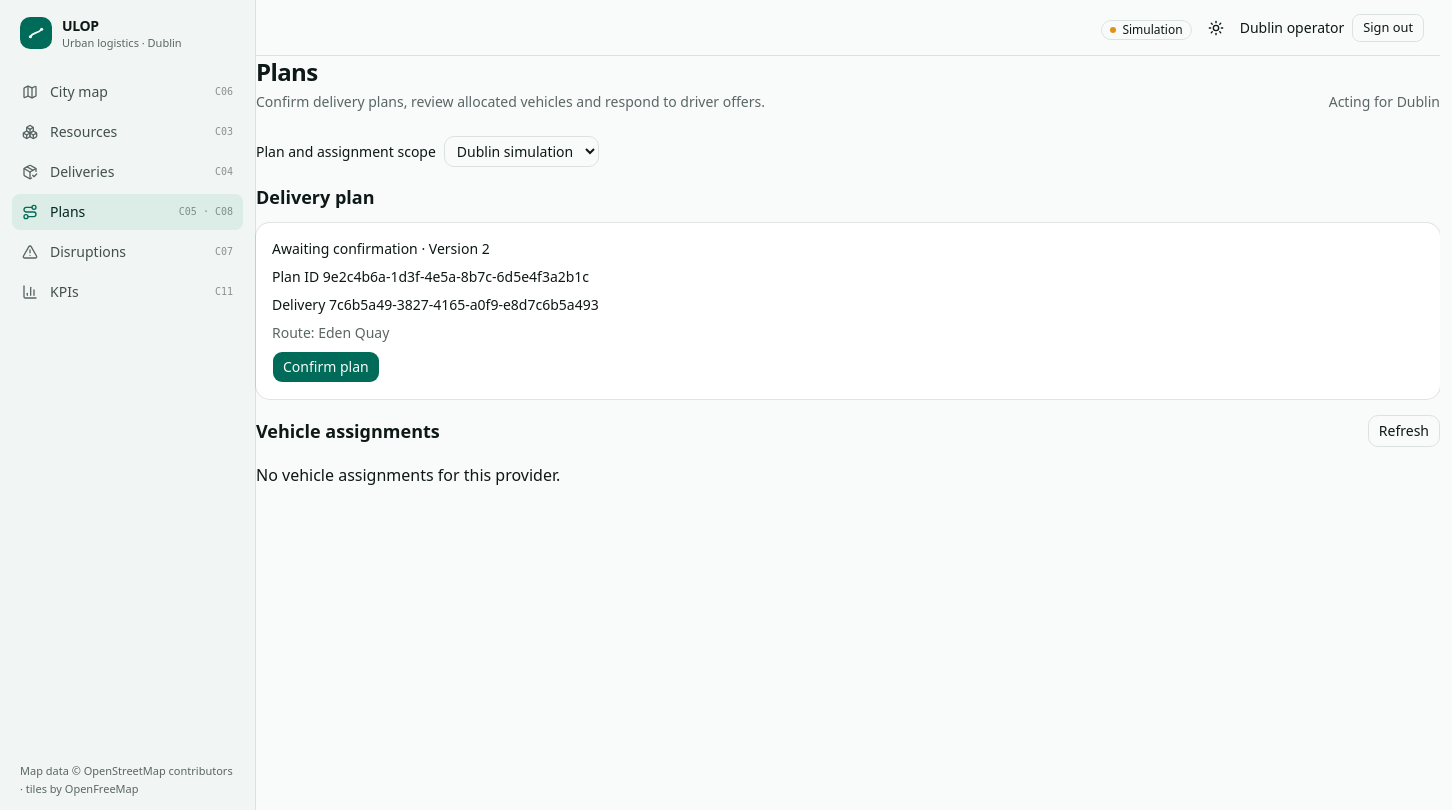
Test case: reloads the saved version after a conflict before allowing any further action
The width and height of the screenshot is (1452, 810).
Click the button "Confirm plan". click: (326, 367)
box: [272,351,380,383]
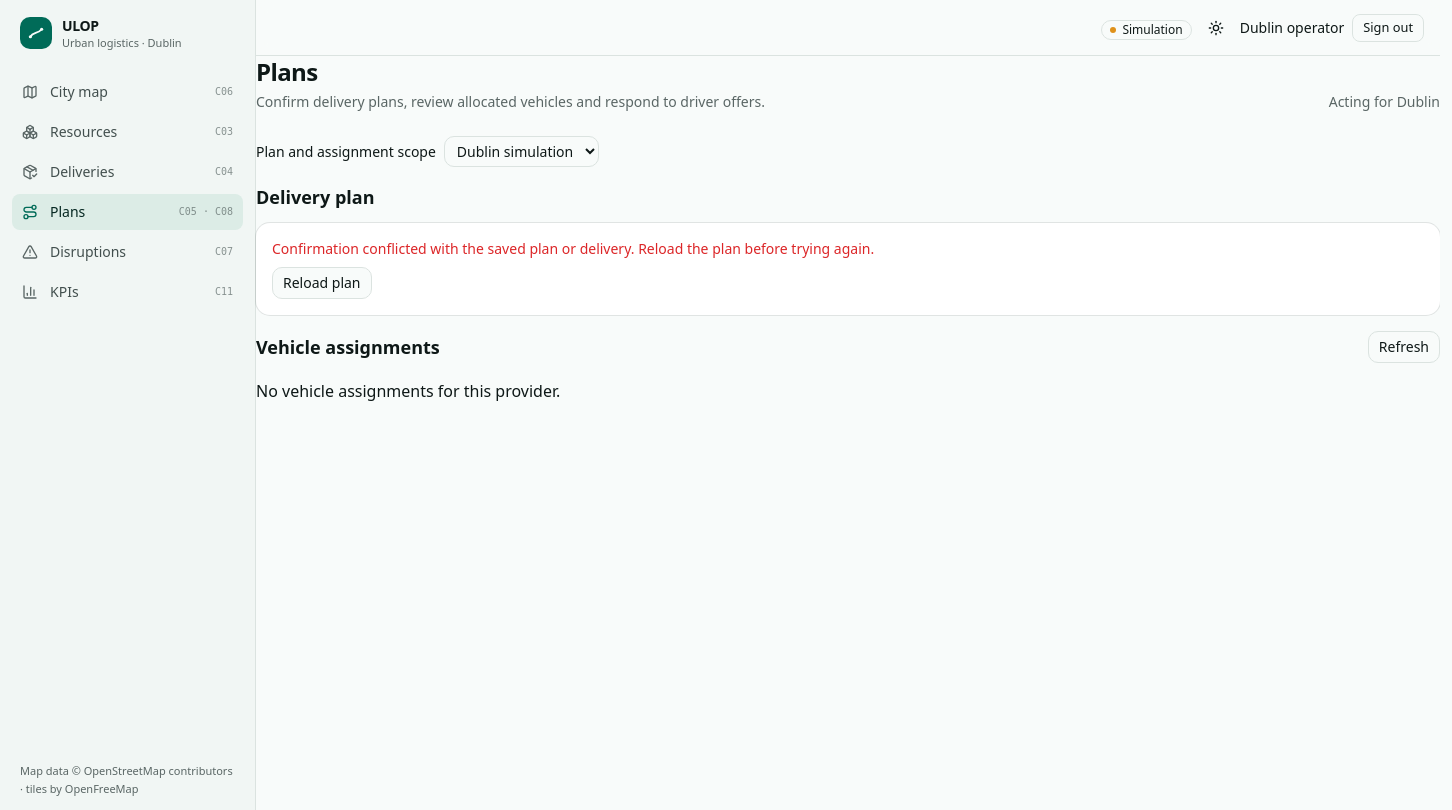
expect the message shows "conflict": met, box [272,239,874,258]
expect the button "Confirm plan" is gone: met
Click the button "Reload plan". click: (322, 283)
box: [272,267,372,299]
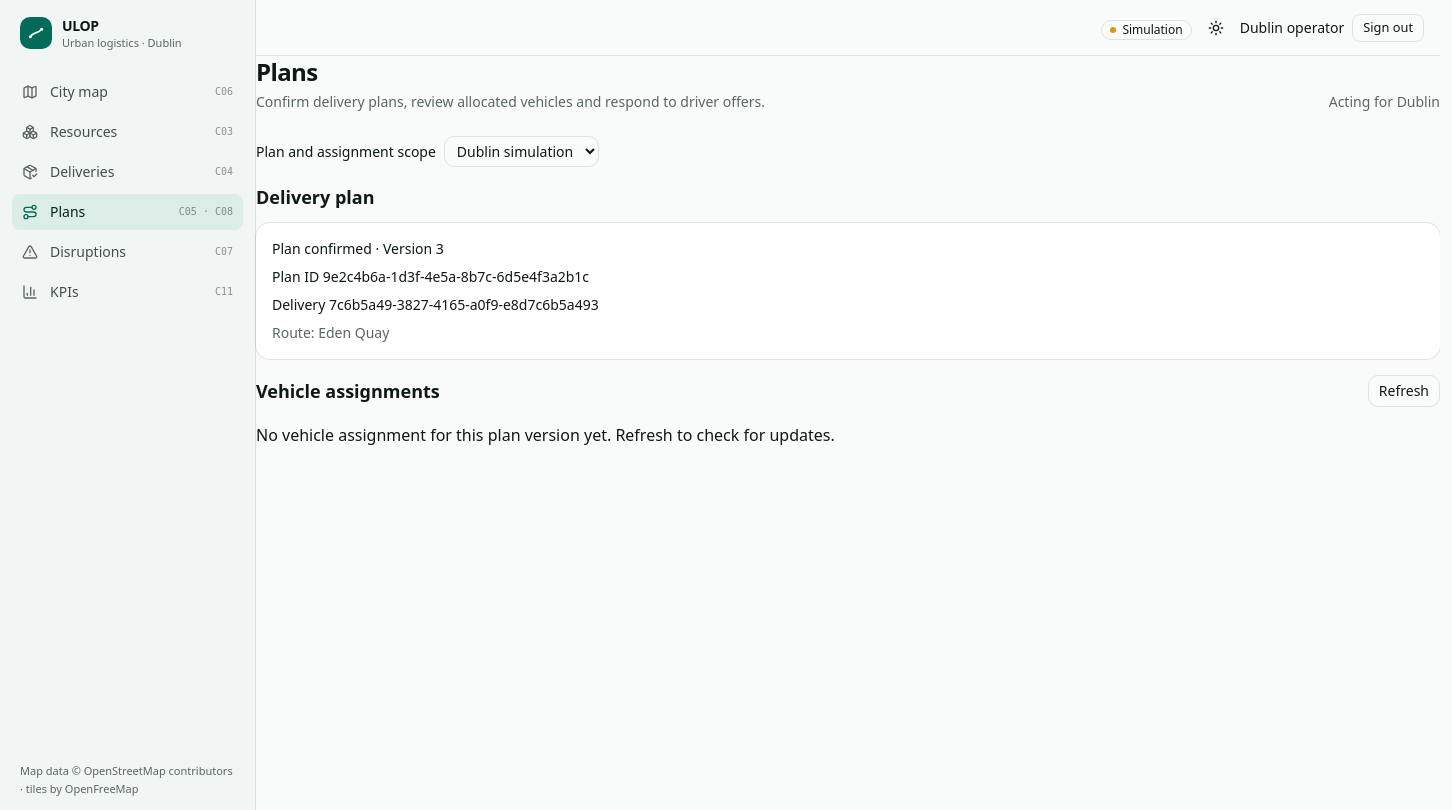
expect the text "Plan confirmed · Version 3" is shown: met, box [272,239,444,258]
